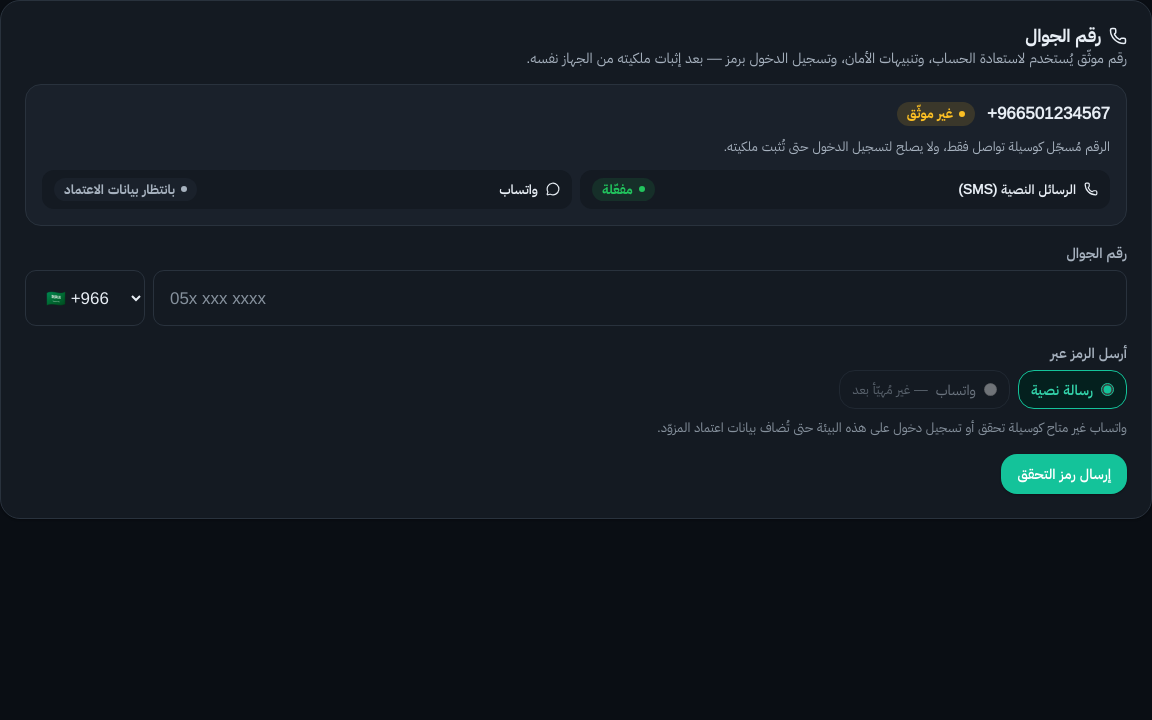
AUTH-PHONE-001 — the mobile number in Account security › stays quiet about delivery when the code really went out
The image size is (1152, 720).
Expected: the element with test id "phone-state" is shown, top-left (897, 102), bottom-right (975, 126)
In the field with test id "phone-credential-number": [640, 298] box top-left (153, 270), bottom-right (1127, 326), type "0501234567"
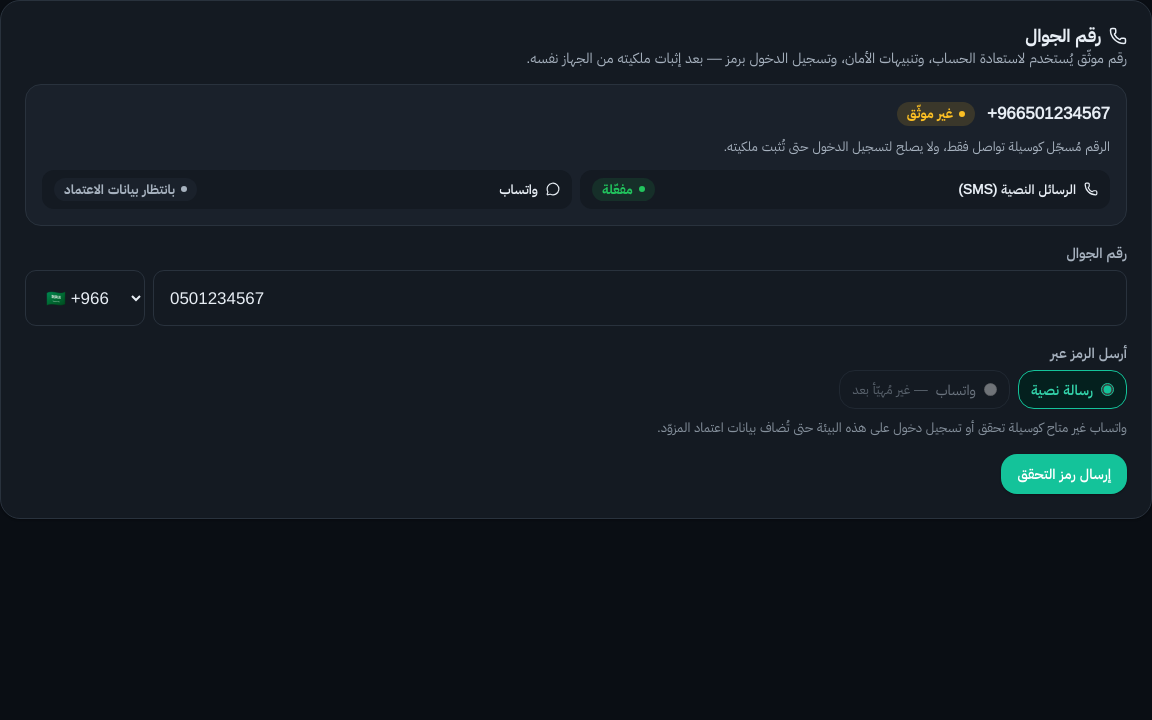
Click the button with test id "phone-send-code": [1064, 474] box top-left (1002, 454), bottom-right (1127, 494)
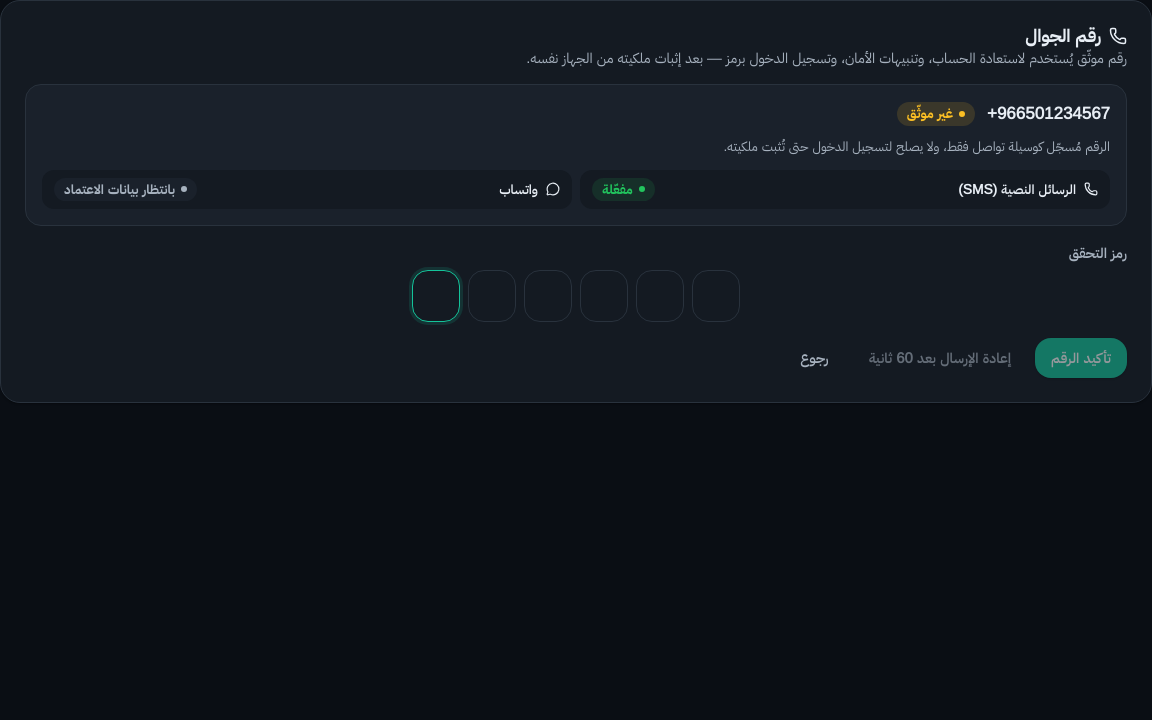
Now the button with test id "phone-confirm-code" is shown, box top-left (1035, 338), bottom-right (1127, 378)
